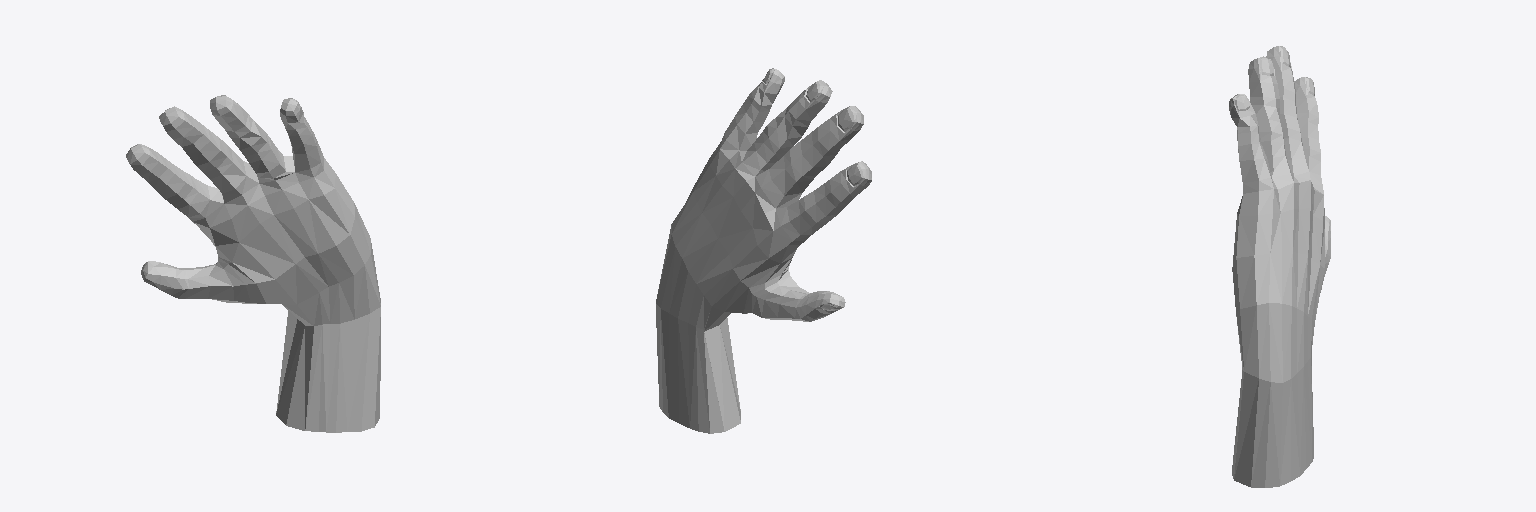
Rendered from handAnimated4_000164.obj.
3 views of the same model, side by side, from view 1: azimuth 30°, elevation 25°; view 2: azimuth 150°, elevation 25°; view 3: azimuth 270°, elevation 25° (orthographic).
Visible parts, largest first — view 1: Cube.000_Cube.017_Detached_Detached; view 2: Cube.000_Cube.017_Detached_Detached; view 3: Cube.000_Cube.017_Detached_Detached.
Part boxes in pixels (x1,y1,x2,y2): Cube.000_Cube.017_Detached_Detached: (126, 95, 380, 432); Cube.000_Cube.017_Detached_Detached: (656, 68, 871, 433); Cube.000_Cube.017_Detached_Detached: (1229, 46, 1330, 487).
Bounding box in the file's own units: 0.8001 × 1.18 × 0.3096.